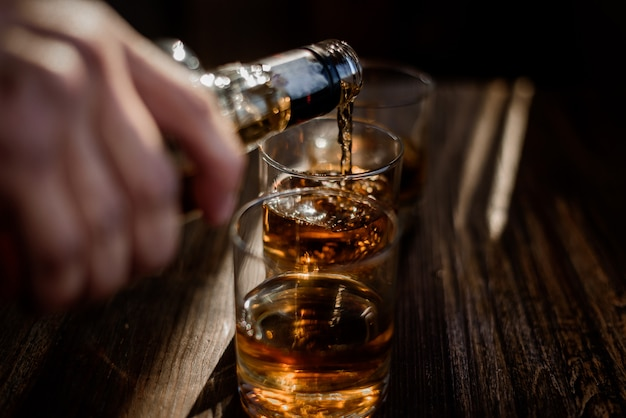alcohol: (3, 39, 368, 267), (232, 184, 397, 418), (260, 114, 412, 325), (296, 59, 433, 205)
